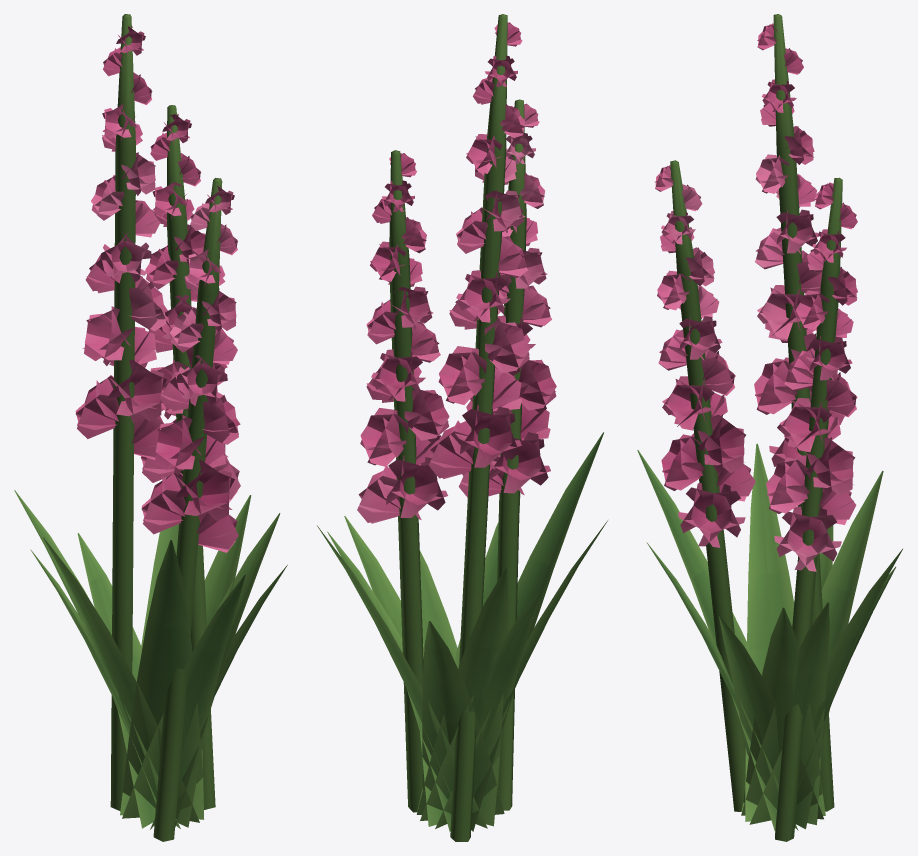
Rendered from PLN_Flowers_Spike.fbx.
3 renders of one model, left to right at view 1: azimuth 30°, elevation 25°; view 2: azimuth 150°, elevation 25°; view 3: azimuth 270°, elevation 25°, orthographic. The views are drawn at different scales.
Parts seen in each view (by area): view 1: PLN_Flowers_Spike; view 2: PLN_Flowers_Spike; view 3: PLN_Flowers_Spike.
Part boxes in pixels (x1,y1,x2,y2): PLN_Flowers_Spike: [14, 14, 287, 841]; PLN_Flowers_Spike: [317, 14, 607, 841]; PLN_Flowers_Spike: [637, 14, 902, 841].
Bounding box in the file's own units: 0.239 × 0.7412 × 0.2276.
